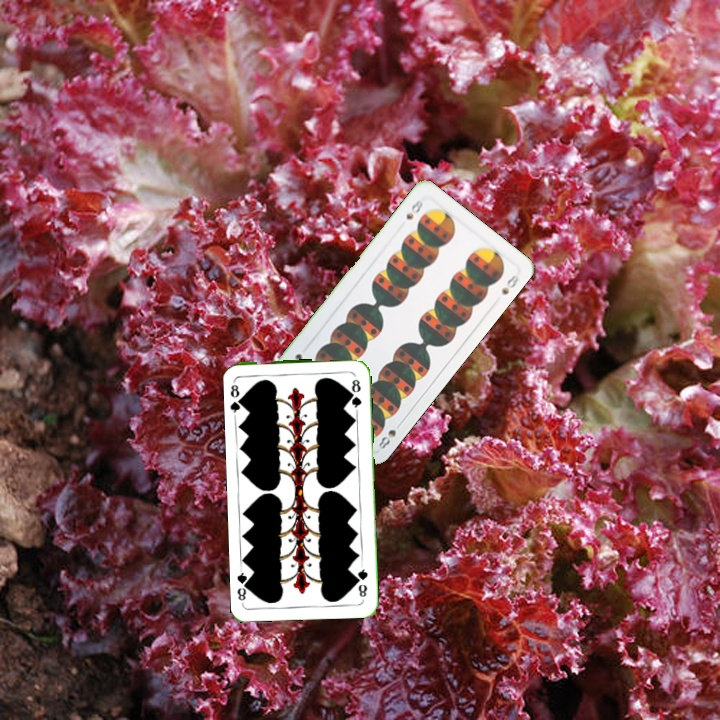G8: (226, 377, 247, 417), (353, 561, 370, 600)
S8: (374, 417, 405, 452), (402, 195, 426, 222)
